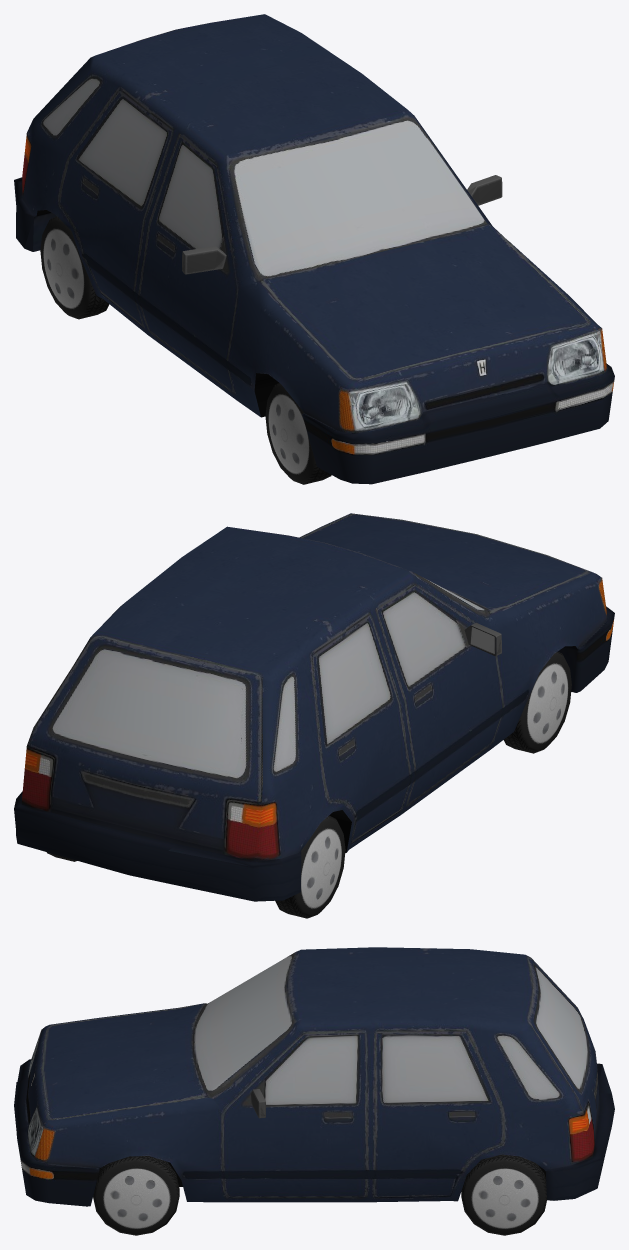
Rendered from car.glb.
3 renders of one model, top to bottom at view 1: azimuth 30°, elevation 25°; view 2: azimuth 150°, elevation 25°; view 3: azimuth 270°, elevation 25°, orthographic. The views are drawn at different scales.
Parts seen in each view (by area): view 1: o_car_1_low2, o_wheel_low1, o_wheel_low2, mirror2, mirror1; view 2: o_car_1_low2, o_wheel_low1, o_wheel_low2, mirror2; view 3: o_car_1_low2, o_wheel_low1, o_wheel_low2.
Part boxes in pixels (x1=…): o_car_1_low2: x1=14, y1=14, x2=614, y2=484; o_wheel_low1: x1=40, y1=216, x2=109, y2=319; o_wheel_low2: x1=265, y1=383, x2=331, y2=484; mirror2: x1=182, y1=246, x2=226, y2=274; mirror1: x1=467, y1=175, x2=502, y2=205; o_car_1_low2: x1=14, y1=513, x2=614, y2=901; o_wheel_low1: x1=46, y1=815, x2=345, y2=918; o_wheel_low2: x1=504, y1=651, x2=571, y2=753; mirror2: x1=464, y1=623, x2=501, y2=656; o_car_1_low2: x1=14, y1=947, x2=614, y2=1206; o_wheel_low1: x1=461, y1=1154, x2=546, y2=1235; o_wheel_low2: x1=93, y1=1156, x2=179, y2=1235.
Size of the model in its own units: 180 by 135 by 360.
Materials: 1 (1 with a texture image).
